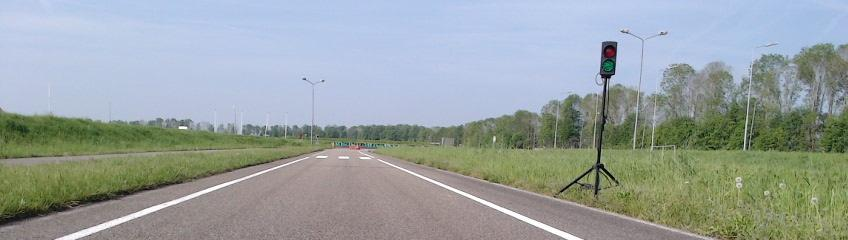TrafficLight-green: (602, 42, 617, 75)
